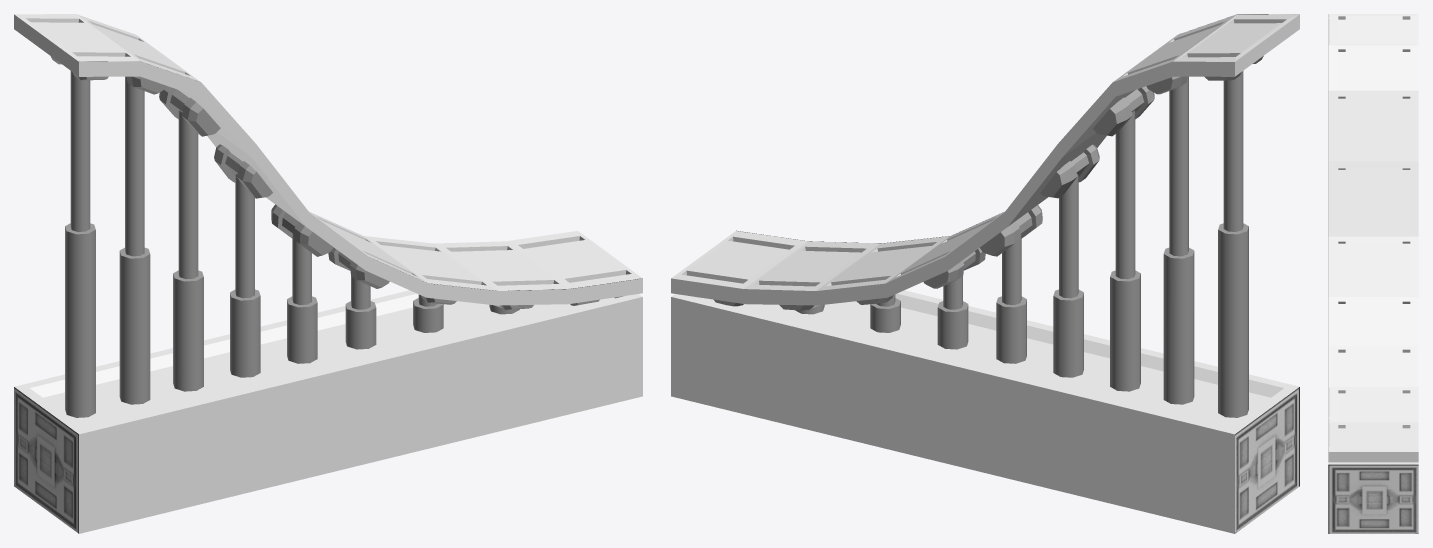
File: Ramp3.fbx
The picture shows the model from 3 angles, left to right: view 1: azimuth 30°, elevation 25°; view 2: azimuth 150°, elevation 25°; view 3: azimuth 270°, elevation 25°; orthographic projection. The views are drawn at different scales.
Visible parts, largest first — view 1: polySurface492; view 2: polySurface492; view 3: polySurface492.
Boxes of the visible parts, x1,y1,x2,y2 form: polySurface492: (14, 14, 642, 533); polySurface492: (671, 14, 1299, 533); polySurface492: (1328, 14, 1418, 533).
Size of the model in its own units: 5 by 4 by 1.
